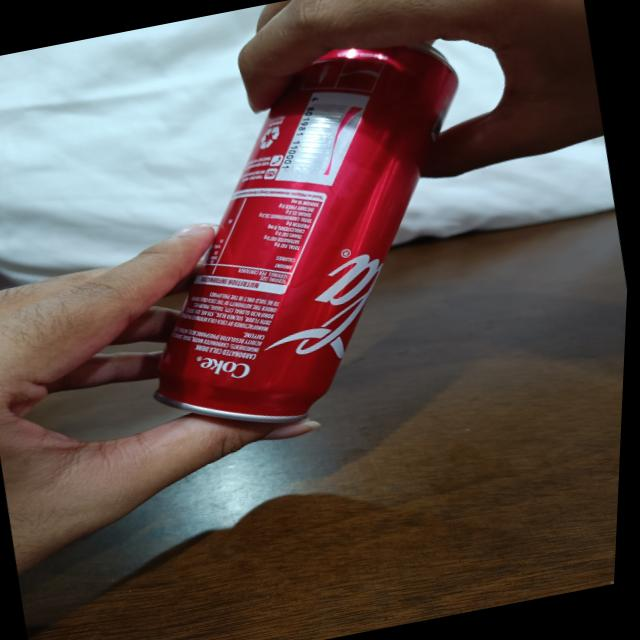coke: (99, 26, 520, 445)
